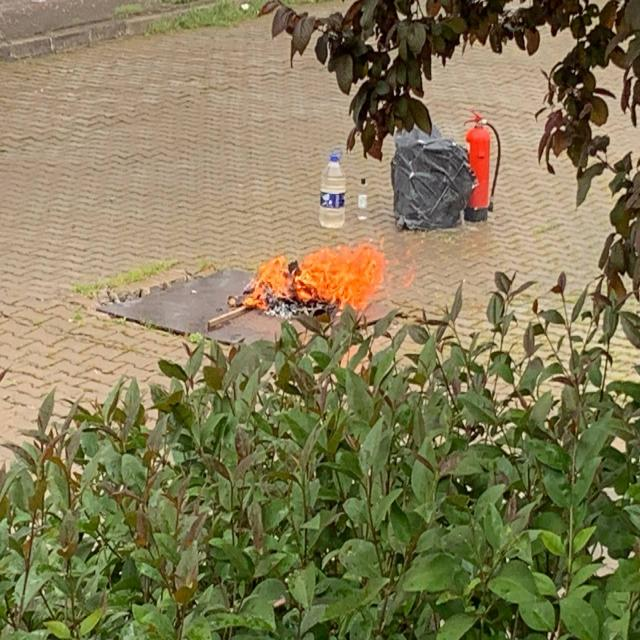fire: (234, 239, 402, 316)
